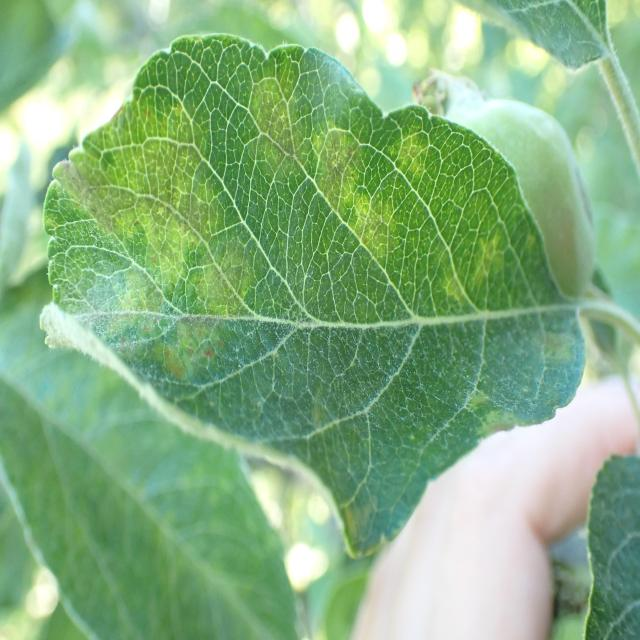scab: (38, 79, 257, 424), (248, 56, 442, 266), (440, 219, 528, 348), (431, 376, 543, 473), (532, 315, 585, 370)
